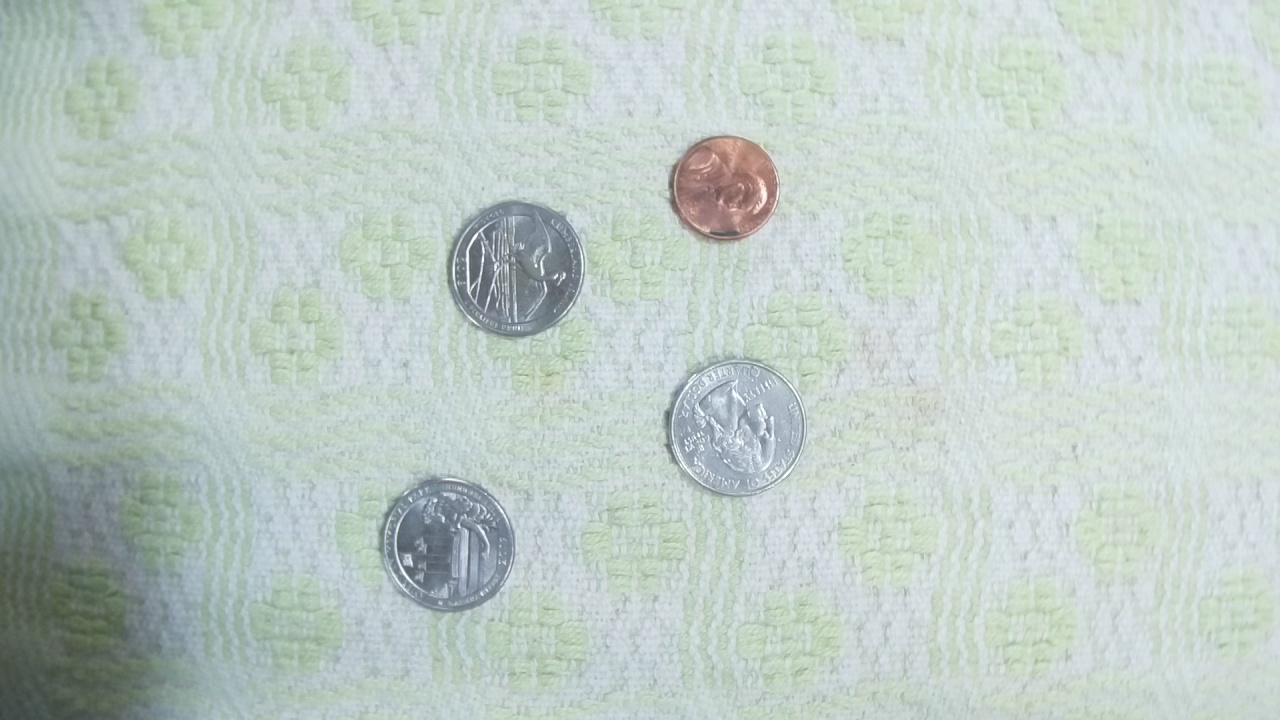penny: (666, 131, 784, 243)
quarter: (664, 352, 812, 502), (377, 474, 519, 616), (446, 200, 586, 342)
